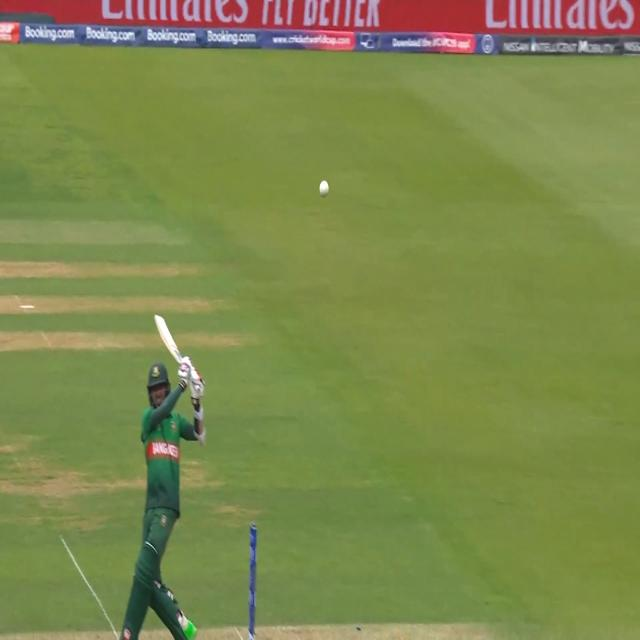ball: (315, 174, 334, 203)
